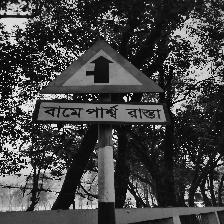Side-road-left: (34, 39, 171, 128)
